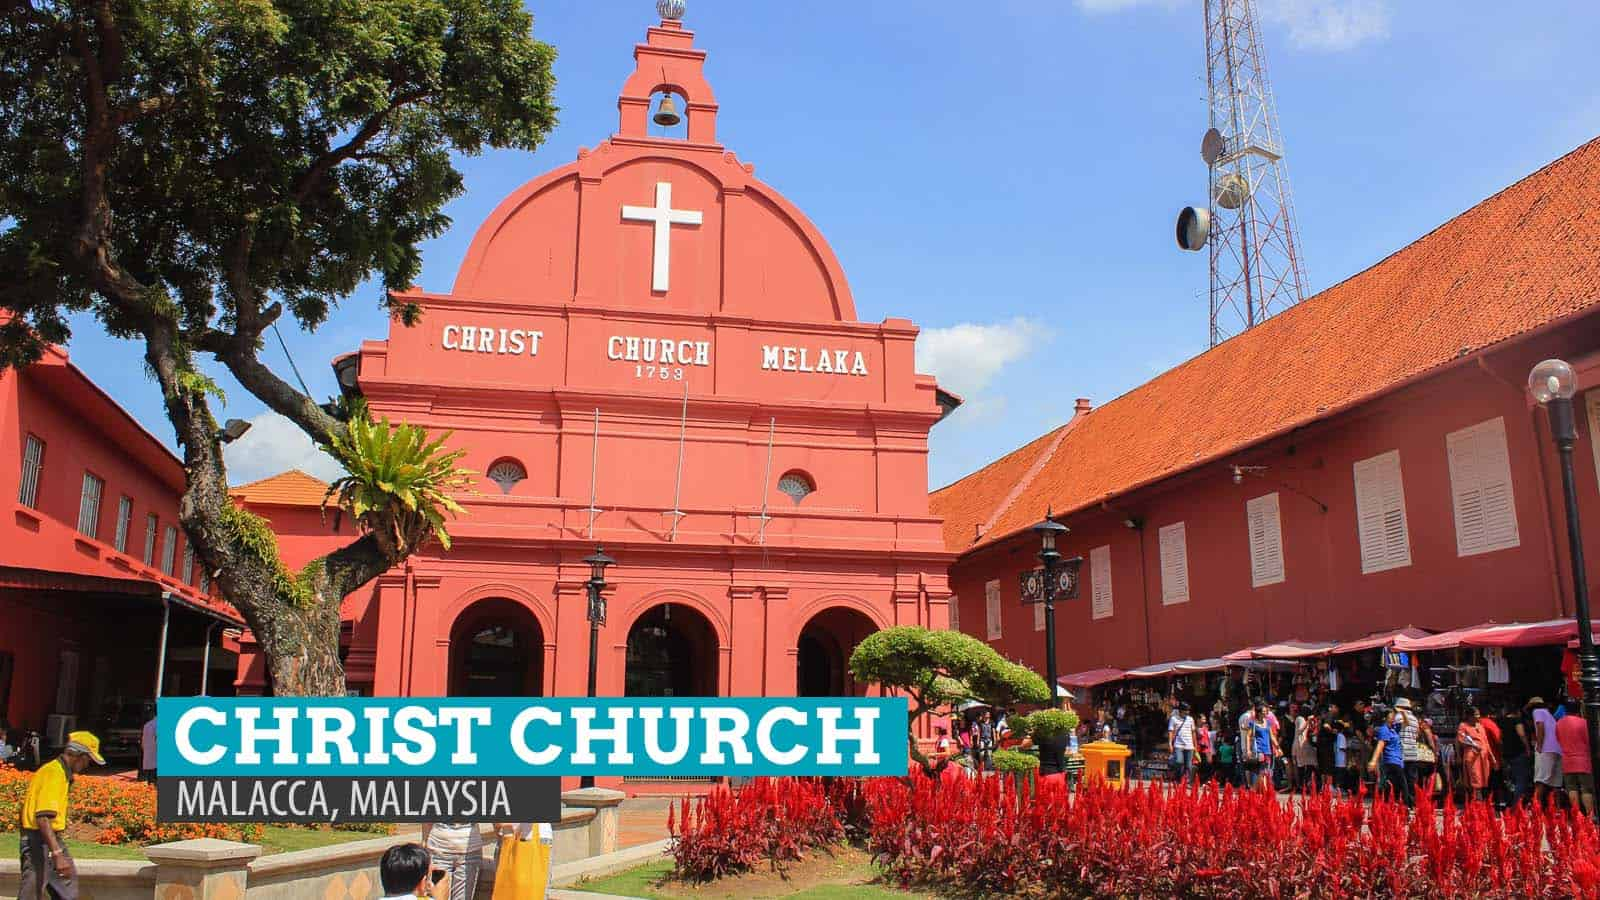Church: (347, 18, 948, 730)
